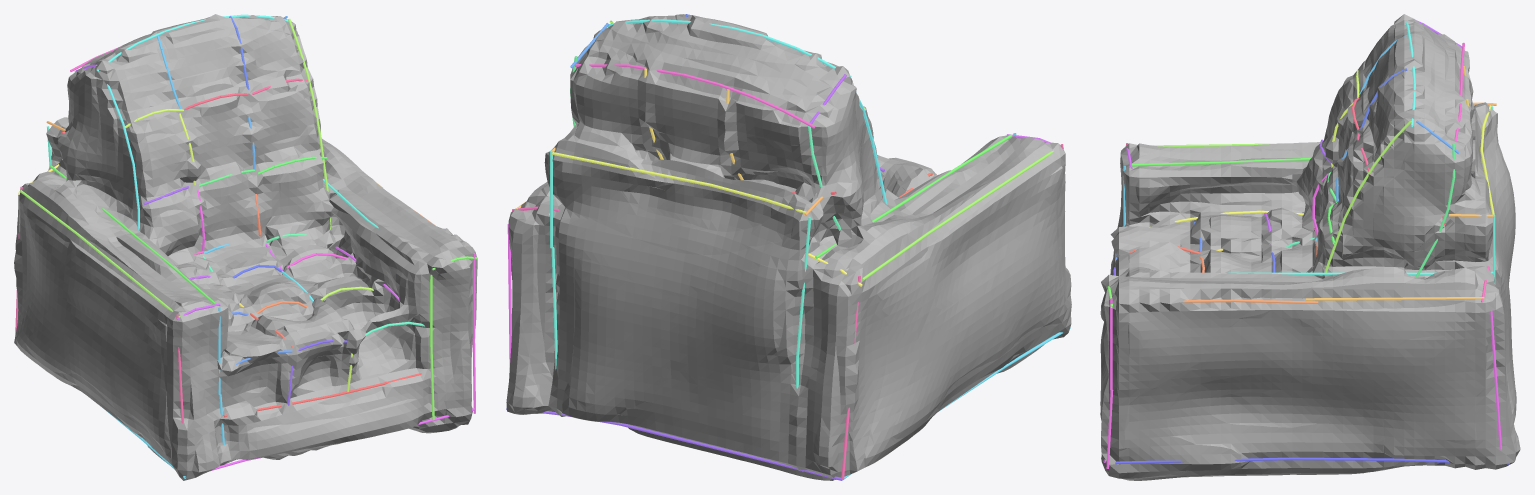
The model's file is author2_sofa.gltf.
The picture shows the model from 3 angles, left to right: view 1: azimuth 30°, elevation 25°; view 2: azimuth 150°, elevation 25°; view 3: azimuth 270°, elevation 25°; orthographic projection. The views are drawn at different scales.
Size of the model in its own units: 0.5749 by 0.6161 by 0.6327.
